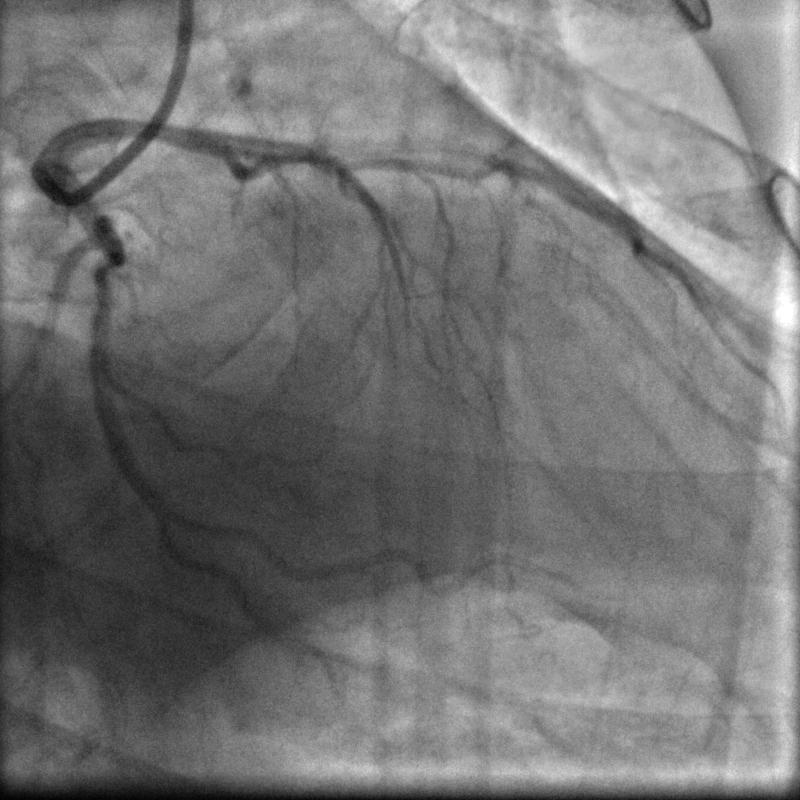Stenosis: (87, 239, 128, 305)
